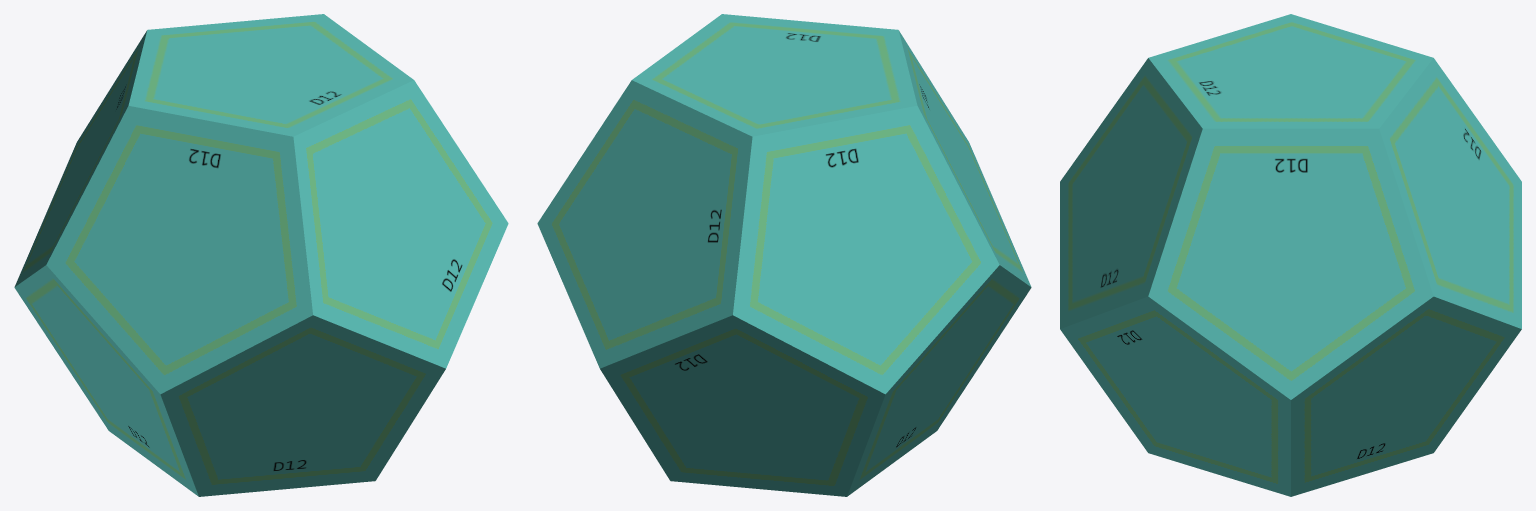
Rendered from D12_Simple.obj.
The picture shows the model from 3 angles, left to right: view 1: azimuth 30°, elevation 25°; view 2: azimuth 150°, elevation 25°; view 3: azimuth 270°, elevation 25°; orthographic projection. The views are drawn at different scales.
Visible parts, largest first — view 1: D12_Simple; view 2: D12_Simple; view 3: D12_Simple.
Part boxes in pixels (bbox=[...]): D12_Simple: bbox=[14, 14, 508, 496]; D12_Simple: bbox=[537, 14, 1031, 496]; D12_Simple: bbox=[1060, 14, 1521, 496].
Bounding box in the file's own units: 2.8 × 2.27 × 2.67.
Materials: 1 (1 with a texture image).
